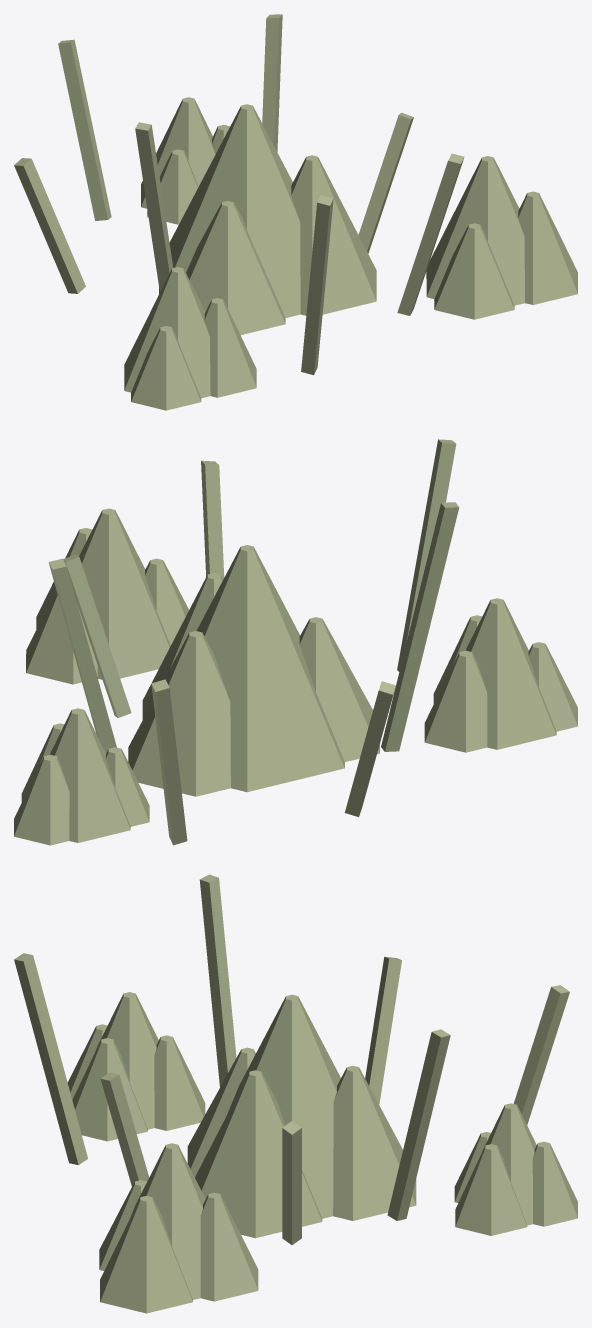
File: radio-telescope-array-and-field-station-scrub-clump-280b15bf__37658.glb
The picture shows the model from 3 angles, top to bottom: view 1: azimuth 30°, elevation 25°; view 2: azimuth 150°, elevation 25°; view 3: azimuth 270°, elevation 25°; orthographic projection. The views are drawn at different scales.
Visible parts, largest first — view 1: scrub-clump; view 2: scrub-clump; view 3: scrub-clump.
Boxes of the visible parts, x1=… form: scrub-clump: x1=14, y1=14, x2=577, y2=410; scrub-clump: x1=14, y1=439, x2=577, y2=845; scrub-clump: x1=14, y1=874, x2=577, y2=1313.
Bounding box in the file's own units: 1.59 × 0.7326 × 1.6.
